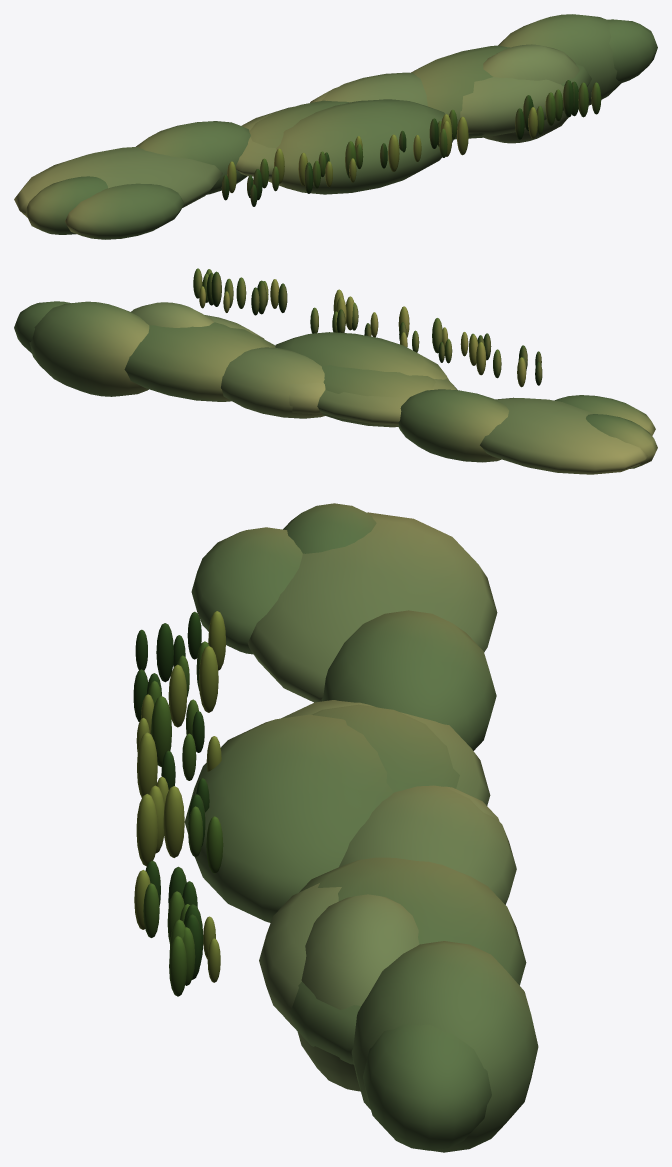
File: golden-backdrop.glb
3 renders of one model, top to bottom at view 1: azimuth 30°, elevation 25°; view 2: azimuth 150°, elevation 25°; view 3: azimuth 270°, elevation 25°, orthographic. The views are drawn at different scales.
Visible parts, largest first — view 1: golden-backdrop; view 2: golden-backdrop; view 3: golden-backdrop.
Boxes of the visible parts, box(x1,y1,x2,y2) form: golden-backdrop: box(14, 14, 657, 239); golden-backdrop: box(14, 268, 657, 474); golden-backdrop: box(133, 503, 538, 1152).
Size of the model in its own units: 167 by 22.91 by 47.63.
